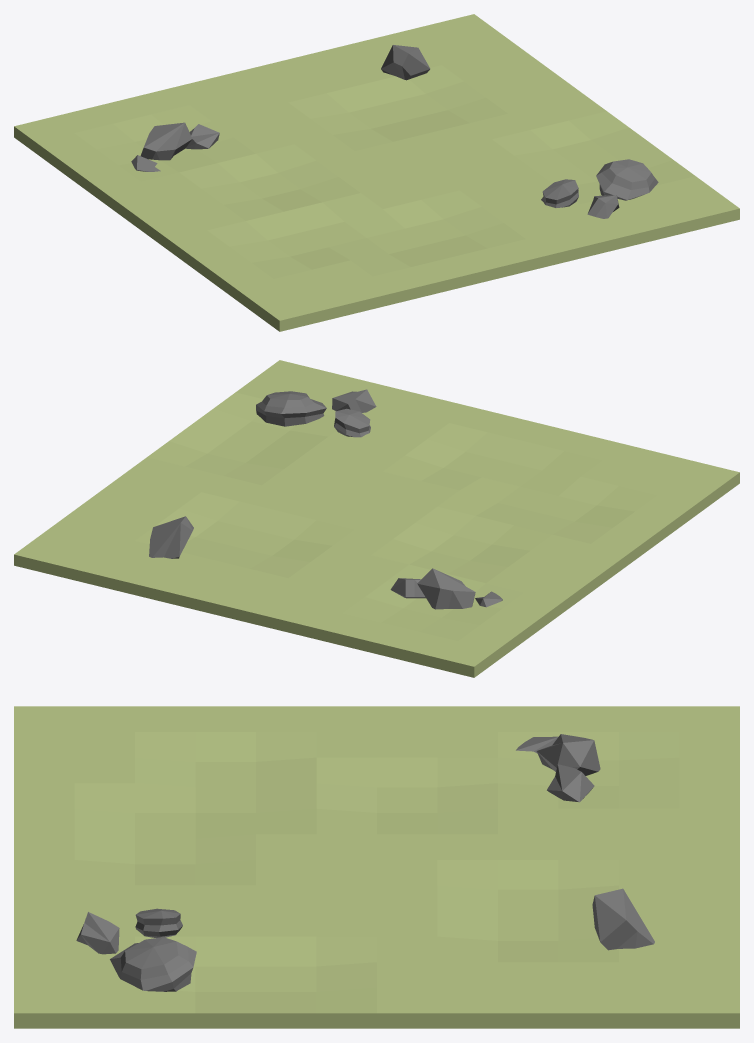
The model's file is Steppes II.fbx.
The picture shows the model from 3 angles, top to bottom: view 1: azimuth 30°, elevation 25°; view 2: azimuth 150°, elevation 25°; view 3: azimuth 270°, elevation 25°; orthographic projection. The views are drawn at different scales.
Visible parts, largest first — view 1: Steppes II; view 2: Steppes II; view 3: Steppes II.
Boxes of the visible parts, bbox=[...] form: Steppes II: bbox=[14, 14, 739, 331]; Steppes II: bbox=[14, 360, 739, 677]; Steppes II: bbox=[14, 706, 739, 1028].
Size of the model in its own units: 1600 by 169 by 1600.
